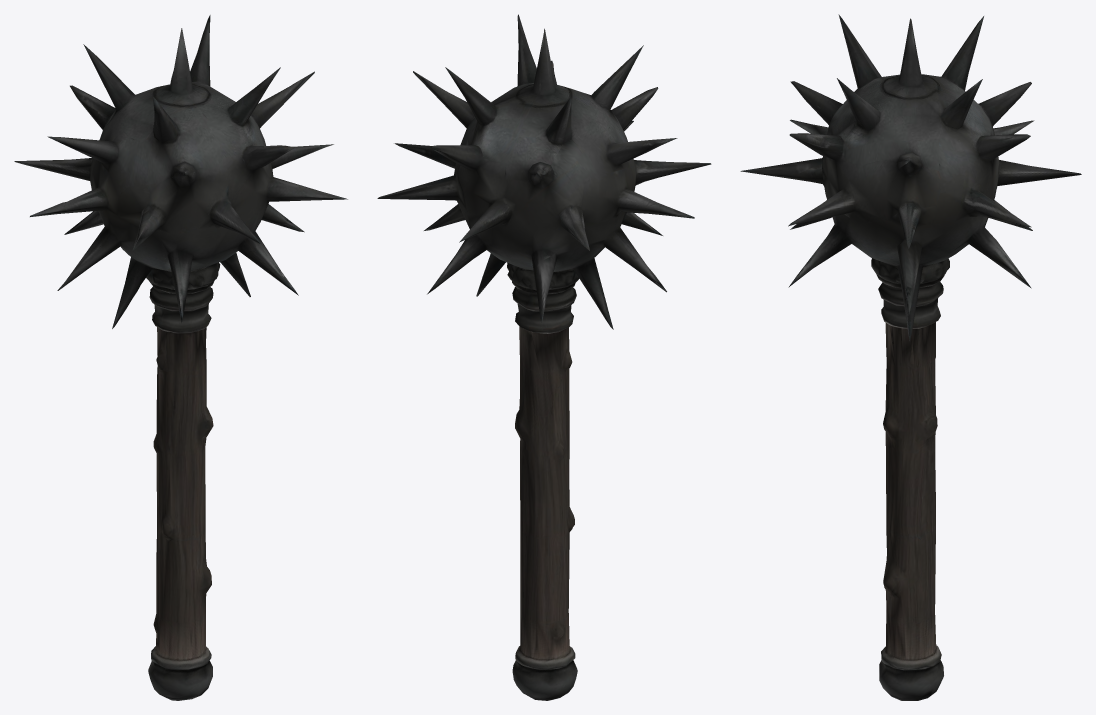
The model's file is 1557_flail.glb.
3 views of the same model, side by side, from view 1: azimuth 30°, elevation 25°; view 2: azimuth 150°, elevation 25°; view 3: azimuth 270°, elevation 25° (orthographic).
Visible parts, largest first — view 1: Model; view 2: Model; view 3: Model.
Part boxes in pixels (x1,y1,x2,y2): Model: (14,15,347,700); Model: (377,14,711,700); Model: (740,14,1081,700).
Size of the model in its own units: 0.4749 by 1 by 0.4561.
1 material, 1 textured.
